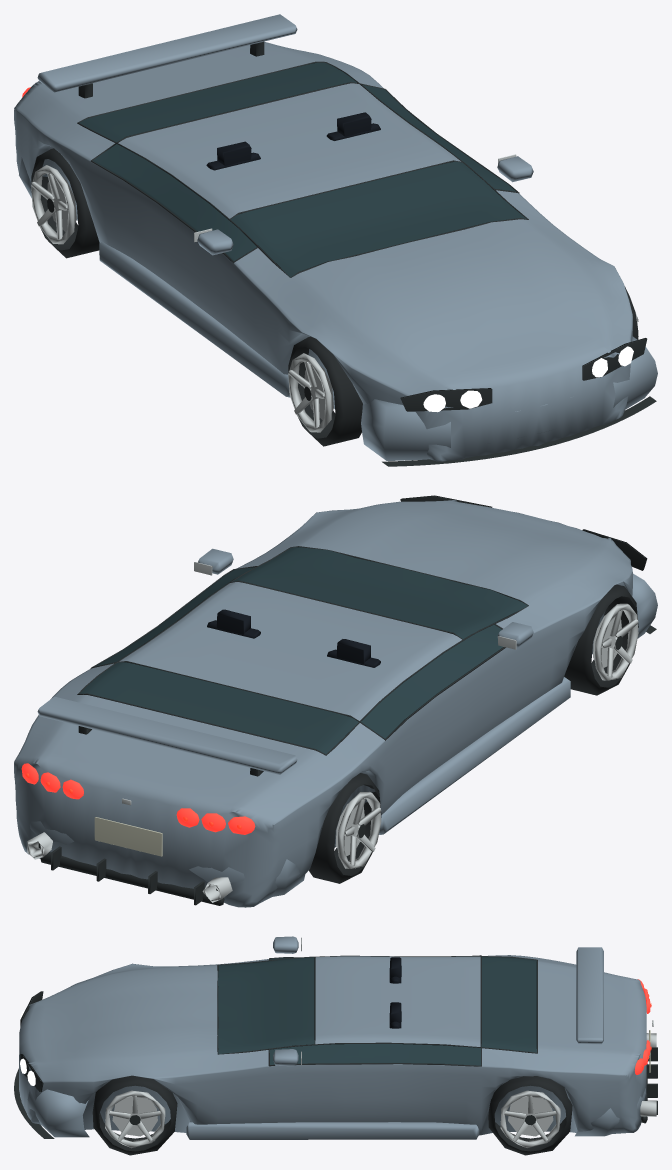
File: tyvoro-astryq.glb
3 views of the same model, one above another, from view 1: azimuth 30°, elevation 25°; view 2: azimuth 150°, elevation 25°; view 3: azimuth 270°, elevation 25° (orthographic). The views are drawn at different scales.
Visible parts, largest first — view 1: scocca, cofano, tetto, cristallo_ant, porta_sx, portellone, cristallo_post, spoiler, paraurti_ant, minigonna_sx, cristallo_sx, ruota_ant_sx_gomma (+17 smaller); view 2: scocca, tetto, cofano, portellone, cristallo_ant, porta_sx, cristallo_post, spoiler, minigonna_sx, cristallo_sx, ruota_ant_sx_gomma, ruota_post_sx_gomma (+15 smaller); view 3: scocca, cofano, tetto, porta_dx, cristallo_ant, portellone, cristallo_post, minigonna_dx, cristallo_dx, spoiler, ruota_ant_dx_gomma, ruota_post_dx_gomma (+14 smaller).
Part boxes in pixels (left/top/right/bottom): scocca: left=14, top=41, right=632, bottom=463; cofano: left=291, top=219, right=612, bottom=380; tetto: left=118, top=83, right=460, bottom=218; cristallo_ant: left=230, top=161, right=526, bottom=277; porta_sx: left=91, top=162, right=248, bottom=345; portellone: left=30, top=42, right=322, bottom=122; cristallo_post: left=79, top=62, right=356, bottom=142; spoiler: left=37, top=14, right=297, bottom=92; paraurti_ant: left=361, top=336, right=657, bottom=460; minigonna_sx: left=99, top=242, right=290, bottom=397; cristallo_sx: left=93, top=144, right=256, bottom=261; ruota_ant_sx_gomma: left=288, top=336, right=362, bottom=446; scocca: left=14, top=500, right=632, bottom=907; tetto: left=119, top=582, right=461, bottom=720; cofano: left=292, top=501, right=612, bottom=605; portellone: left=30, top=695, right=325, bottom=815; cristallo_ant: left=232, top=547, right=527, bottom=639; porta_sx: left=381, top=640, right=529, bottom=814; cristallo_post: left=80, top=662, right=358, bottom=753; spoiler: left=37, top=696, right=297, bottom=774; minigonna_sx: left=379, top=677, right=570, bottom=834; cristallo_sx: left=361, top=624, right=503, bottom=738; ruota_ant_sx_gomma: left=564, top=584, right=638, bottom=695; ruota_post_sx_gomma: left=309, top=773, right=381, bottom=883; scocca: left=19, top=955, right=646, bottom=1134; cofano: left=42, top=965, right=217, bottom=1067; tetto: left=315, top=956, right=480, bottom=1046; porta_dx: left=253, top=1064, right=481, bottom=1135; cristallo_ant: left=218, top=957, right=314, bottom=1053; portellone: left=538, top=960, right=646, bottom=1060; cristallo_post: left=481, top=956, right=536, bottom=1052; minigonna_dx: left=186, top=1121, right=479, bottom=1139; cristallo_dx: left=269, top=1044, right=480, bottom=1065; spoiler: left=576, top=947, right=603, bottom=1044; ruota_ant_dx_gomma: left=92, top=1075, right=177, bottom=1155; ruota_post_dx_gomma: left=488, top=1076, right=572, bottom=1155.
Size of the model in its own units: 2.28 by 1.01 by 5.13.
